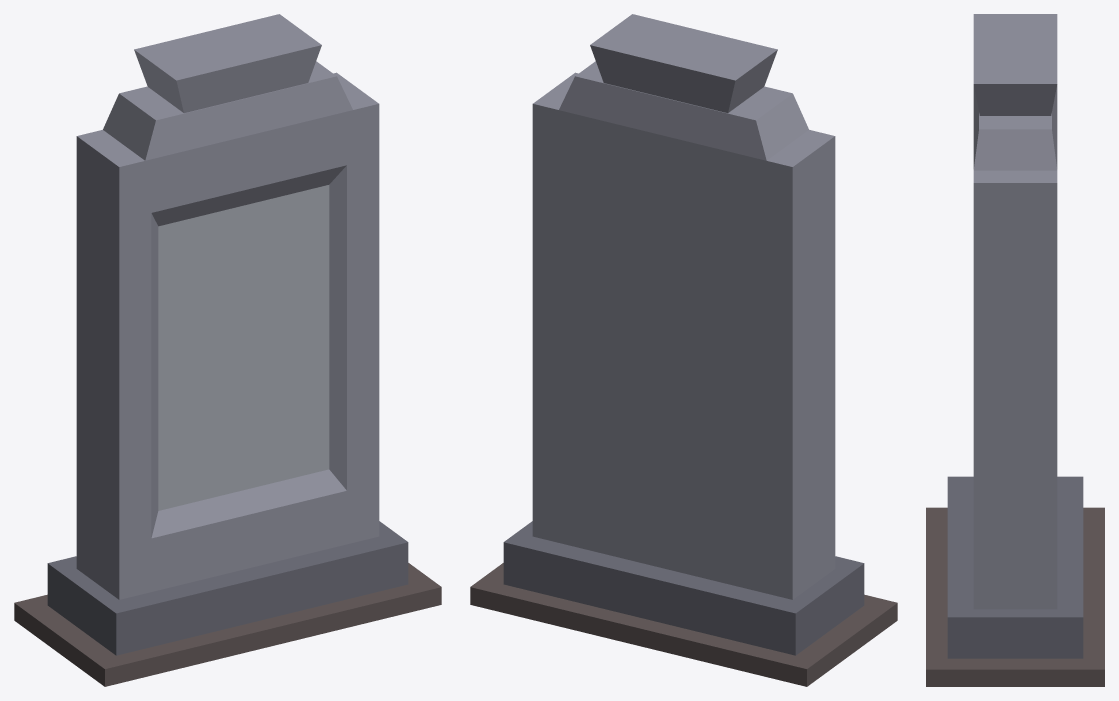
The model's file is HWN20_Grave_11.glb.
3 views of the same model, side by side, from view 1: azimuth 30°, elevation 25°; view 2: azimuth 150°, elevation 25°; view 3: azimuth 270°, elevation 25° (orthographic).
Visible parts, largest first — view 1: HWN20_Grave_11; view 2: HWN20_Grave_11; view 3: HWN20_Grave_11.
Part boxes in pixels (x1=…): HWN20_Grave_11: x1=14, y1=14, x2=441, y2=686; HWN20_Grave_11: x1=470, y1=14, x2=897, y2=686; HWN20_Grave_11: x1=926, y1=14, x2=1104, y2=686.
Size of what is drawn, in the model's own units: 0.9895 by 1.59 by 0.4619.
Materials: 1 (1 with a texture image).
